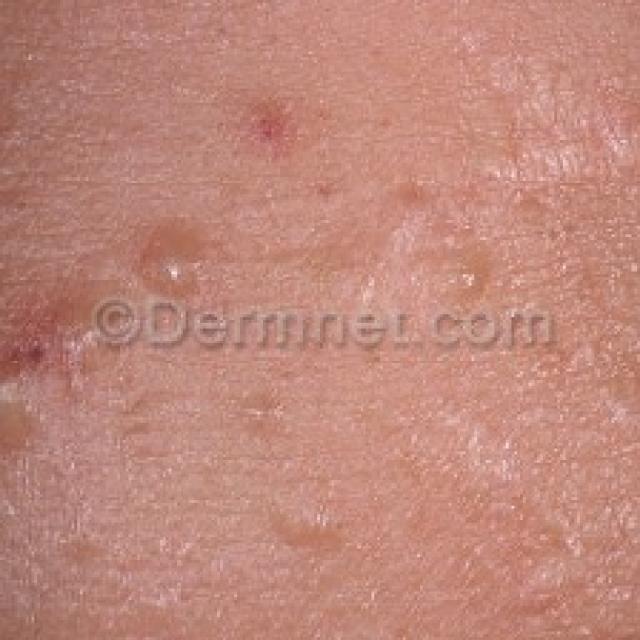Acne: (58, 216, 570, 620)
